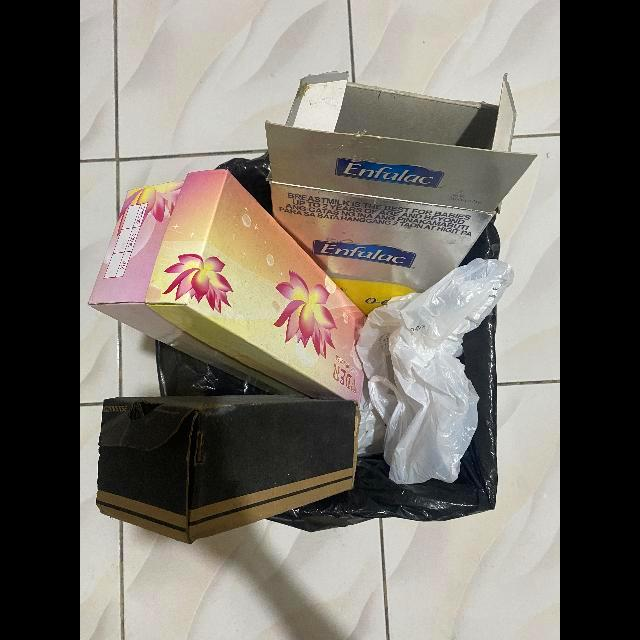cardboard: (88, 170, 373, 411), (266, 71, 538, 317), (96, 395, 361, 544)
plastic_bag: (356, 258, 515, 485)
